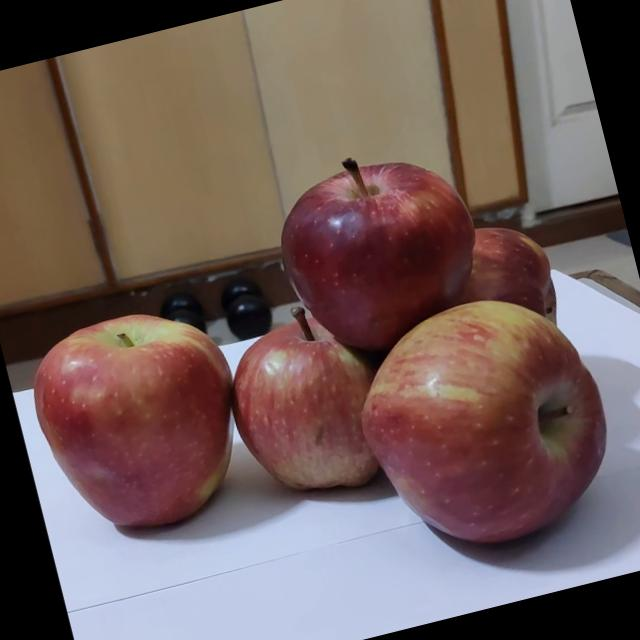apple: (341, 282, 640, 585), (0, 269, 288, 574), (251, 118, 514, 384), (205, 288, 428, 525), (376, 206, 597, 388)
